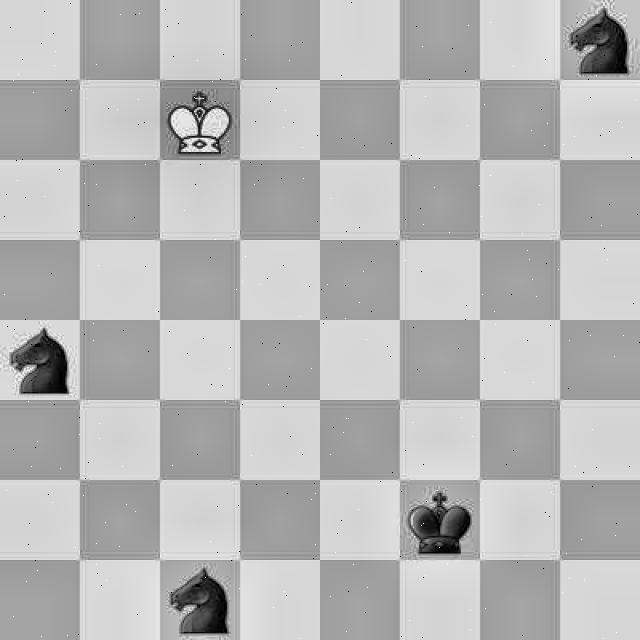Black Knight: (0, 320, 75, 400), (563, 0, 640, 75), (162, 562, 236, 640)
black king: (397, 477, 477, 559)
white king: (160, 78, 238, 160)
